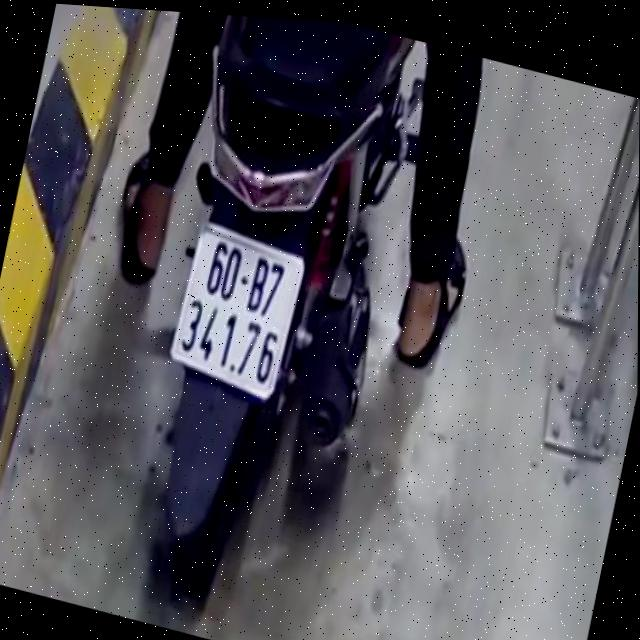motorcycle: (94, 7, 439, 640)
plate: (159, 217, 312, 408)
